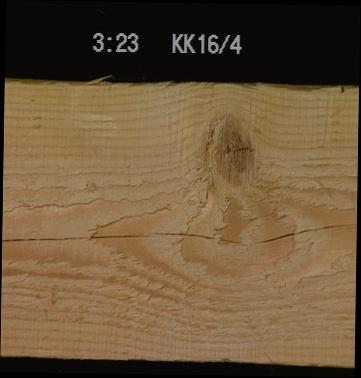sound_knot: (201, 111, 256, 188)
split: (1, 218, 356, 248), (237, 206, 289, 222)
wave: (4, 78, 196, 103), (253, 83, 358, 100)
